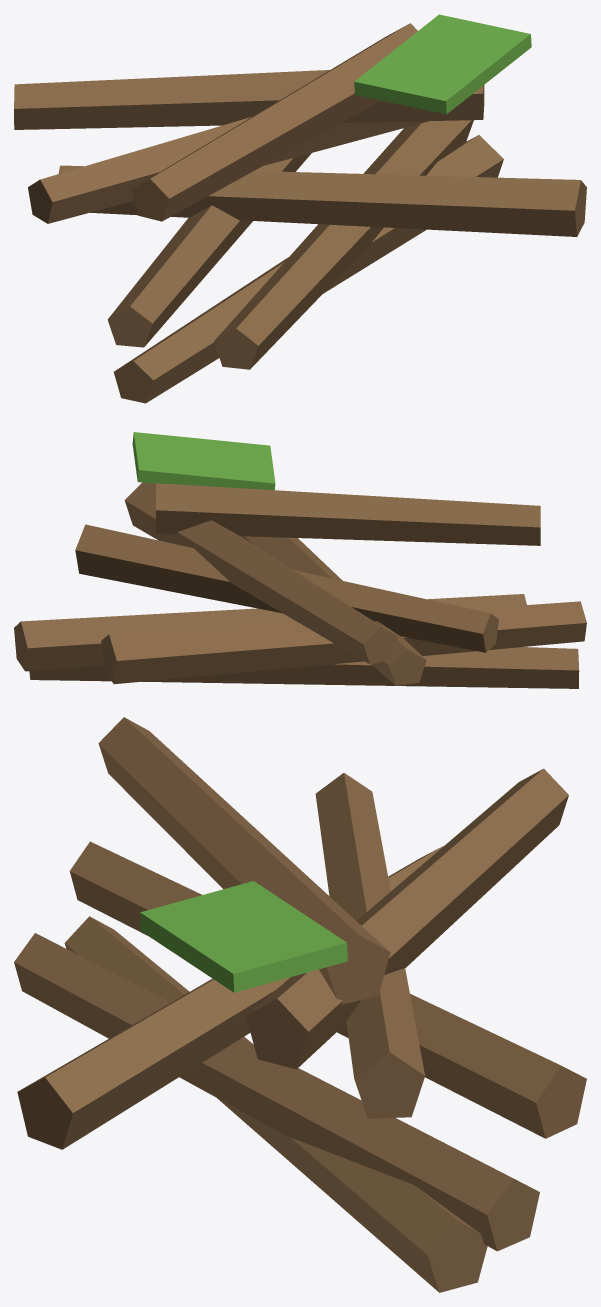
File: env_r10_twig_pile.glb
The picture shows the model from 3 angles, top to bottom: view 1: azimuth 30°, elevation 25°; view 2: azimuth 150°, elevation 25°; view 3: azimuth 270°, elevation 25°; orthographic projection. The views are drawn at different scales.
Visible parts, largest first — view 1: env_r10_twig_pile; view 2: env_r10_twig_pile; view 3: env_r10_twig_pile.
Boxes of the visible parts, box(x1,y1,x2,y2) form: env_r10_twig_pile: box(14, 14, 586, 403); env_r10_twig_pile: box(14, 432, 586, 688); env_r10_twig_pile: box(14, 717, 586, 1292).
Size of the model in its own units: 2.2 by 0.9 by 1.6.
Materials: 1 (1 with a texture image).
